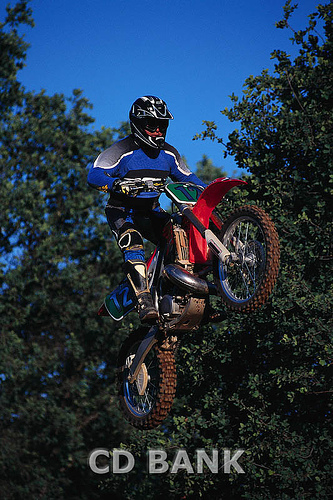helmet: (127, 95, 178, 146)
